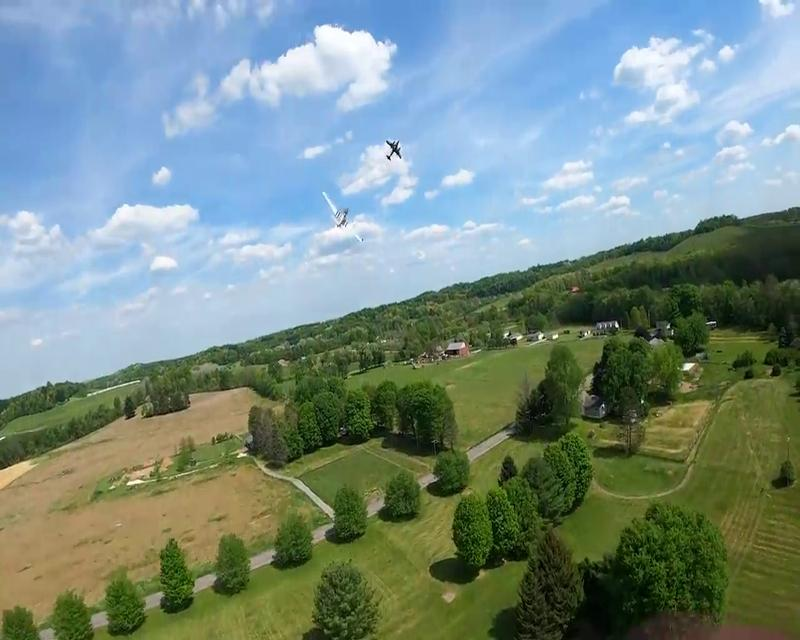UAV: (318, 190, 366, 244), (384, 137, 403, 162)
